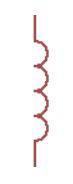inductor: (21, 33, 53, 146)
